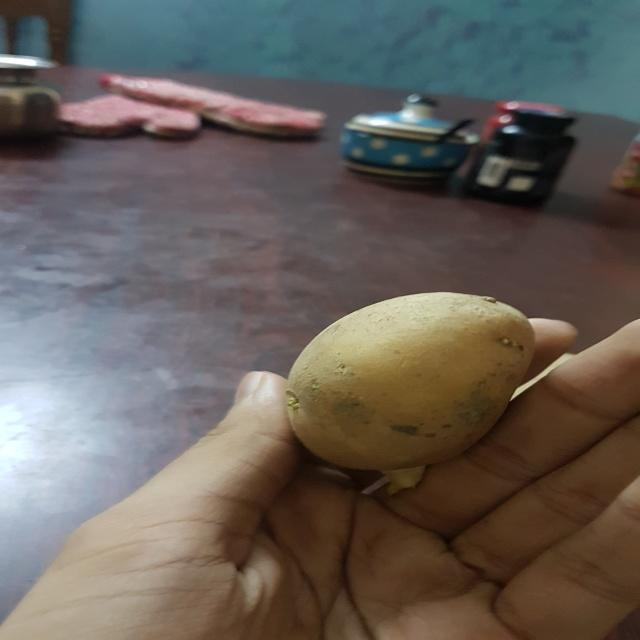potato: (257, 272, 549, 489)
